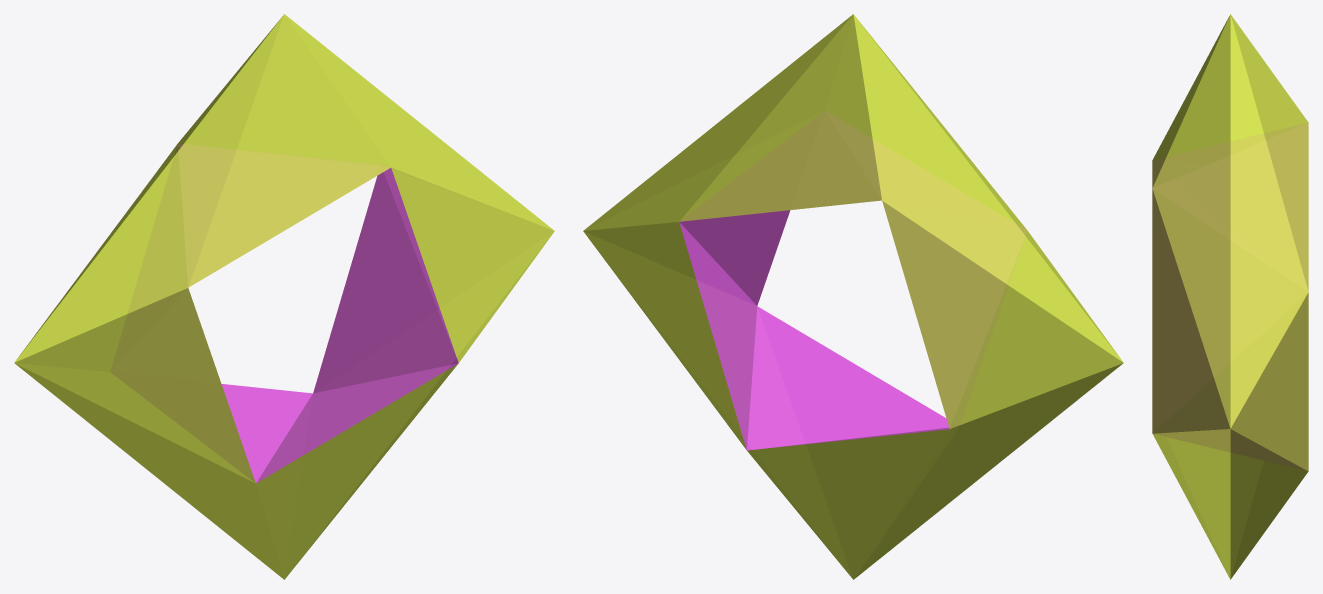
Rendered from RegularTriangularToroid_C.obj.
3 renders of one model, left to right at view 1: azimuth 30°, elevation 25°; view 2: azimuth 150°, elevation 25°; view 3: azimuth 270°, elevation 25°, orthographic.
Bounding box in the file's own units: 8 × 8 × 2.
